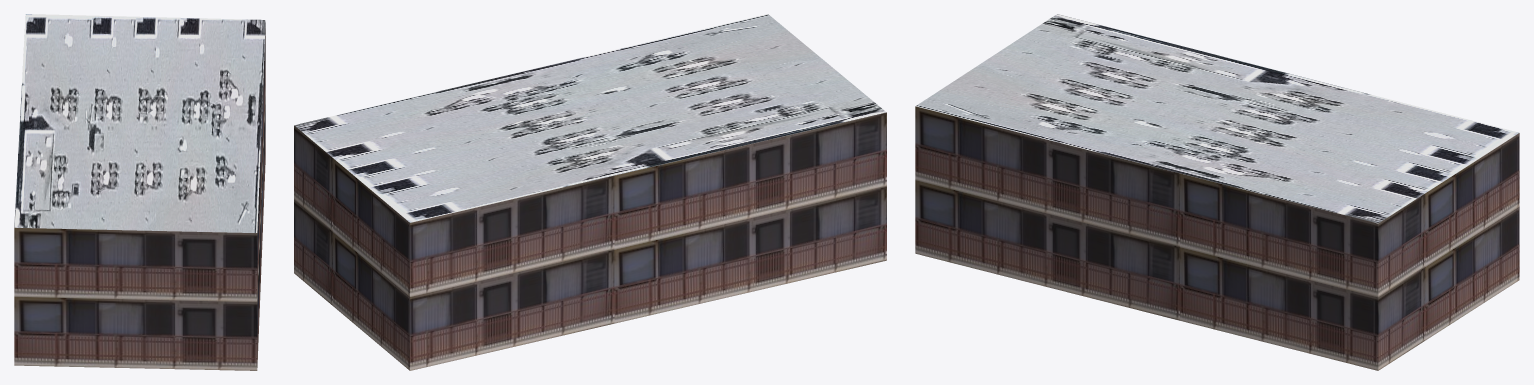
The model's file is ResTex__726.fbx.
3 renders of one model, left to right at view 1: azimuth 30°, elevation 25°; view 2: azimuth 150°, elevation 25°; view 3: azimuth 270°, elevation 25°, orthographic. The views are drawn at different scales.
Visible parts, largest first — view 1: CityEngineMaterial_4_m, CityEngineMaterial_6_m; view 2: CityEngineMaterial_6_m, CityEngineMaterial_4_m; view 3: CityEngineMaterial_6_m, CityEngineMaterial_4_m.
Boxes of the visible parts, x1=… form: CityEngineMaterial_4_m: x1=14, y1=14, x2=265, y2=232; CityEngineMaterial_6_m: x1=14, y1=27, x2=265, y2=370; CityEngineMaterial_6_m: x1=294, y1=112, x2=886, y2=370; CityEngineMaterial_4_m: x1=294, y1=14, x2=886, y2=222; CityEngineMaterial_6_m: x1=915, y1=106, x2=1519, y2=370; CityEngineMaterial_4_m: x1=916, y1=14, x2=1519, y2=223.
Bounding box in the file's own units: 18.3 × 6 × 22.29.
Materials: 2 (2 with a texture image).
